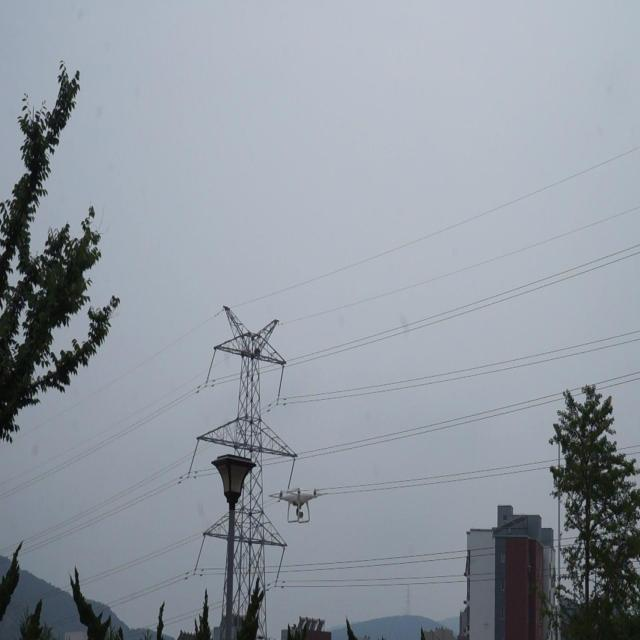drone: (270, 482, 322, 529)
